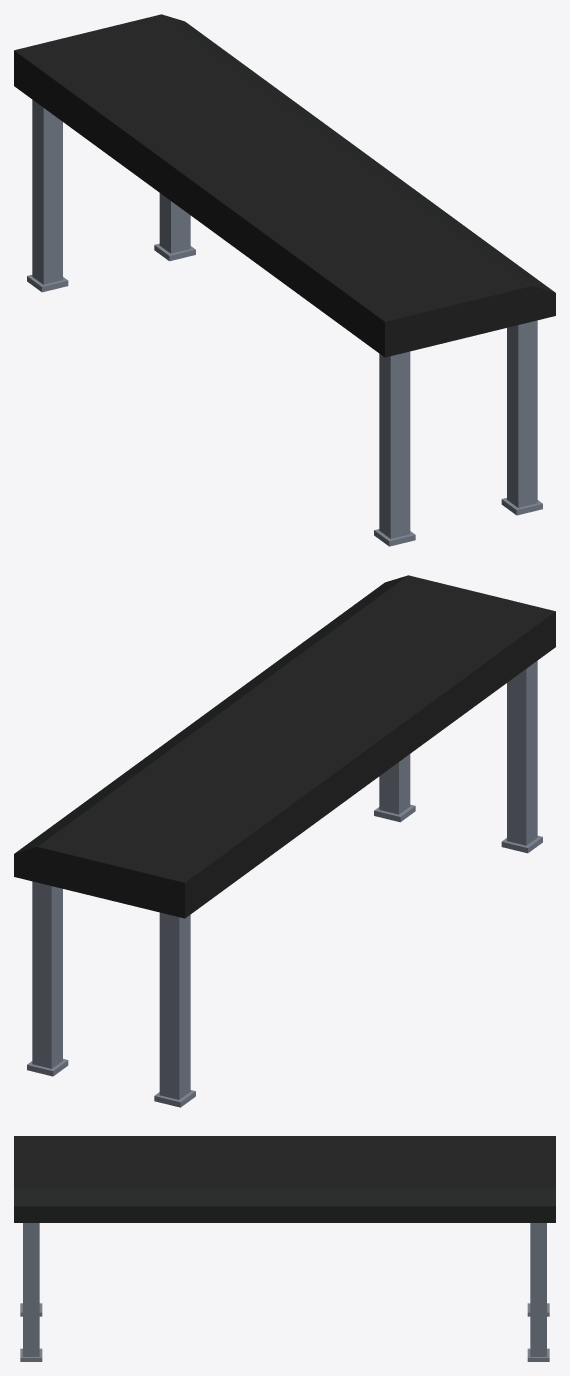
The model's file is Bench.fbx.
3 renders of one model, top to bottom at view 1: azimuth 30°, elevation 25°; view 2: azimuth 150°, elevation 25°; view 3: azimuth 270°, elevation 25°, orthographic. The views are drawn at different scales.
Parts seen in each view (by area): view 1: bench; view 2: bench; view 3: bench.
Part boxes in pixels (x1,y1,x2,y2): bench: (14,14,555,546); bench: (14,575,555,1107); bench: (14,1136,555,1361).
Size of the model in its own units: 42.48 by 54.59 by 160.
